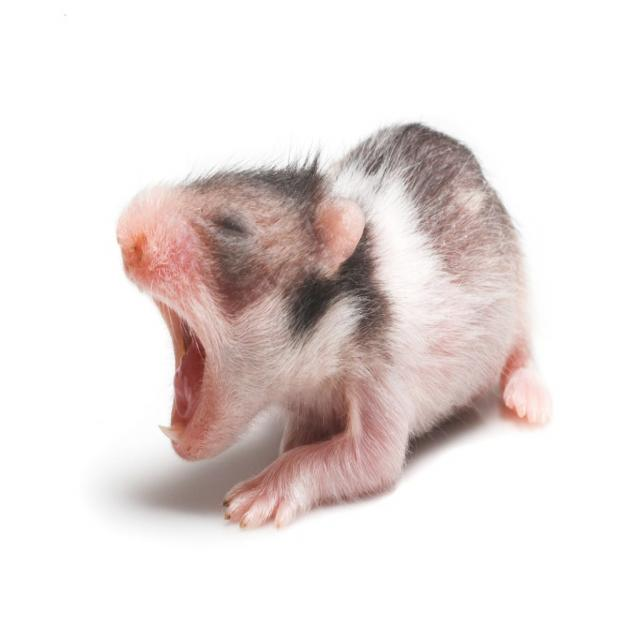hamster: (111, 118, 554, 530)
